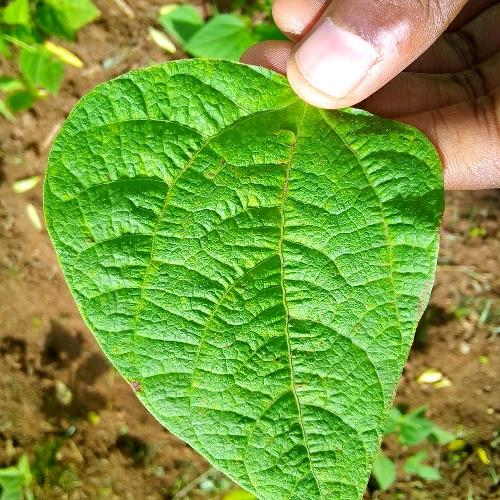hawar: (138, 103, 368, 400)
